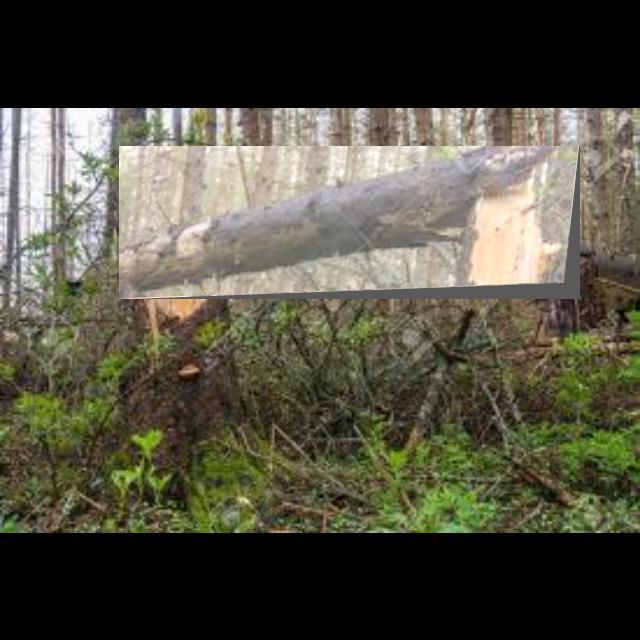fallen_tree: (119, 146, 581, 300)
